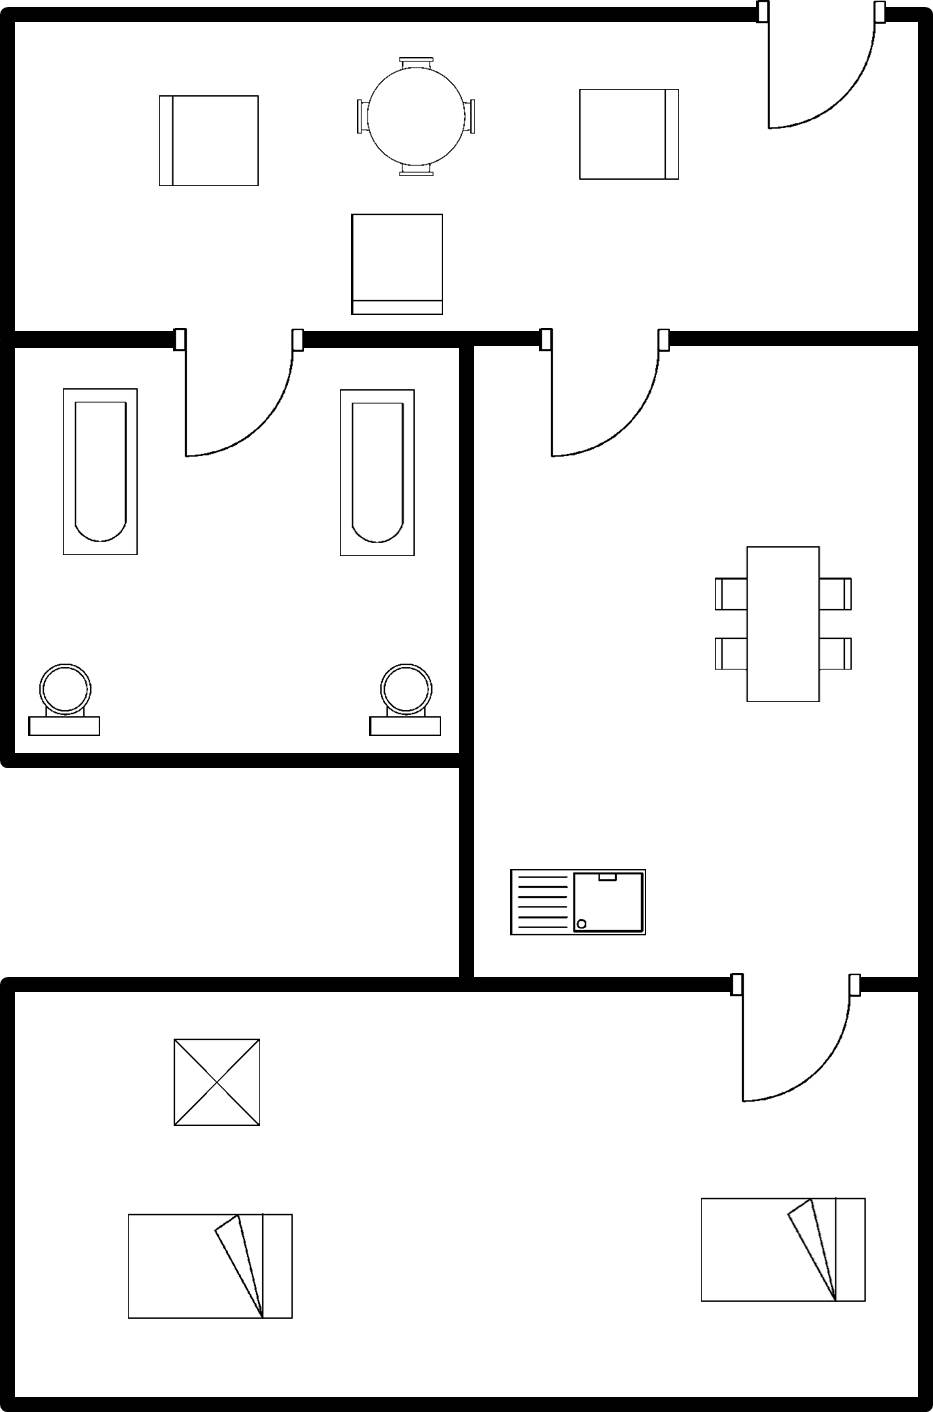bed: (114, 1202, 302, 1329), (690, 1184, 875, 1313)
coffee_table: (166, 1031, 269, 1136)
dining_table: (701, 533, 860, 715)
large_sink: (20, 655, 116, 743), (357, 655, 447, 747)
round_table: (349, 48, 490, 185)
sink: (495, 858, 658, 947)
small_sofa: (149, 85, 268, 199), (342, 204, 453, 324), (569, 78, 687, 189)
tub: (328, 378, 423, 569), (54, 380, 149, 567)
